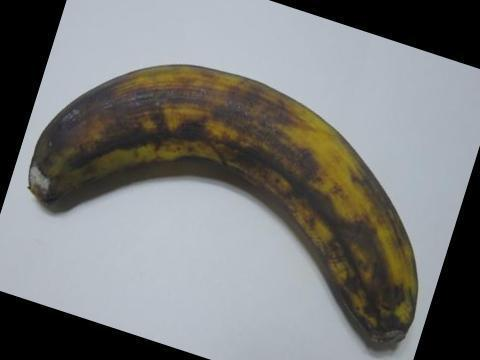overripe: (21, 50, 436, 359)
